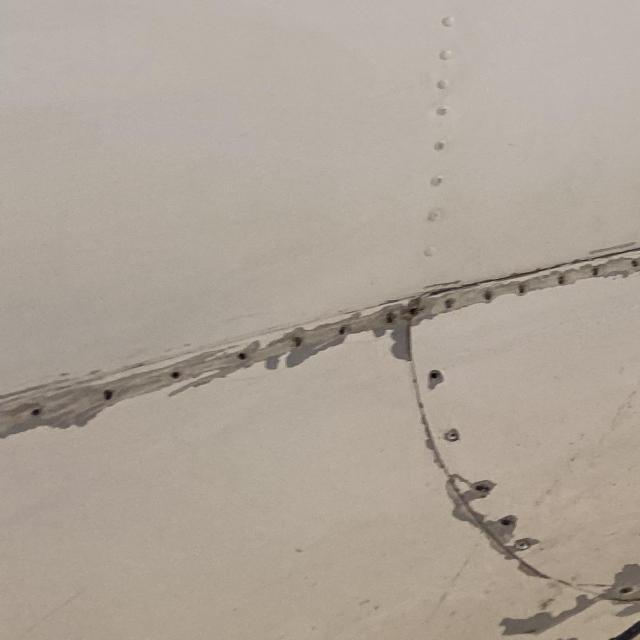Crack: (390, 249, 612, 311)
Missing-head: (469, 481, 496, 500), (233, 348, 255, 366), (164, 367, 188, 383), (426, 368, 444, 387), (98, 388, 117, 405), (495, 516, 516, 531), (613, 585, 638, 597), (29, 408, 43, 418)
Paint-off: (498, 597, 580, 637)
Scratch: (0, 204, 640, 463), (519, 526, 640, 640)
